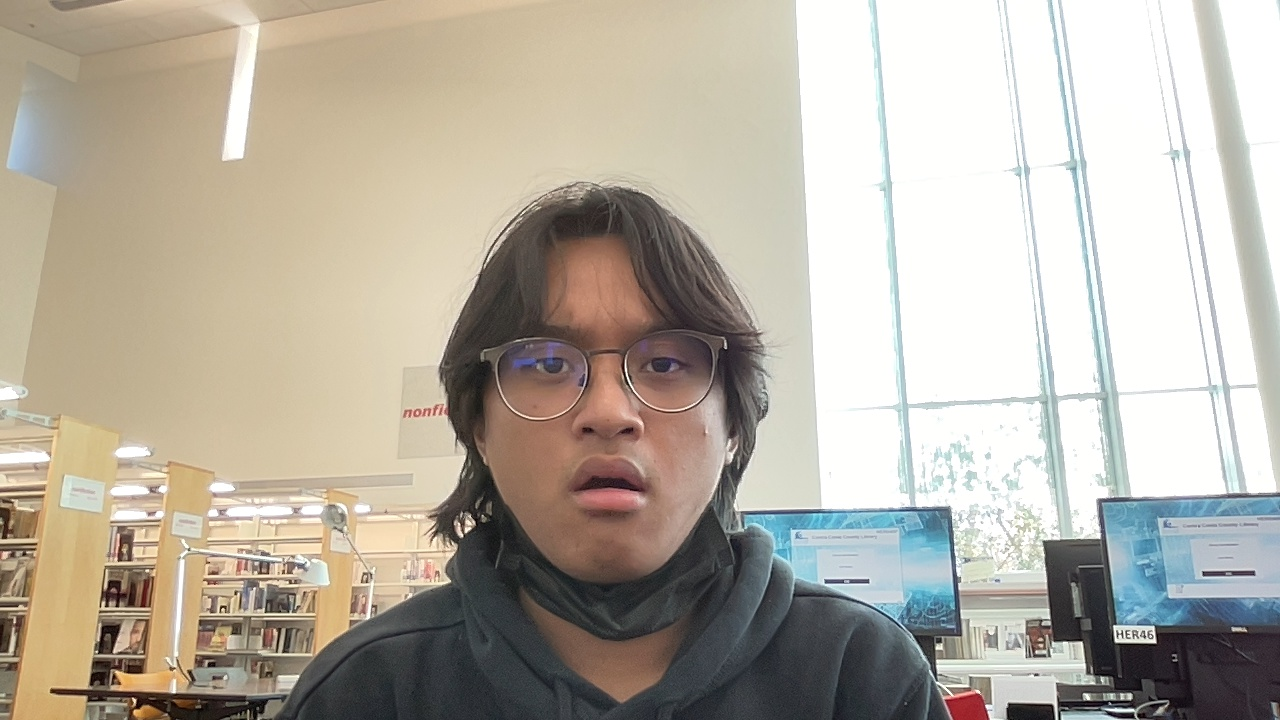fear: (472, 227, 730, 582)
